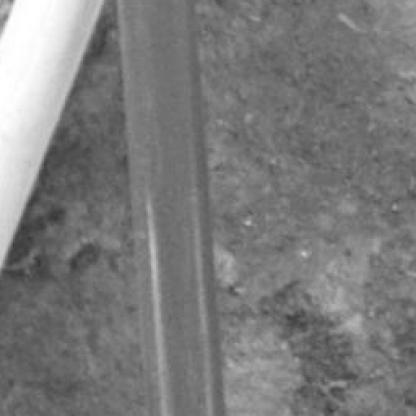PVC: (2, 1, 105, 269)
